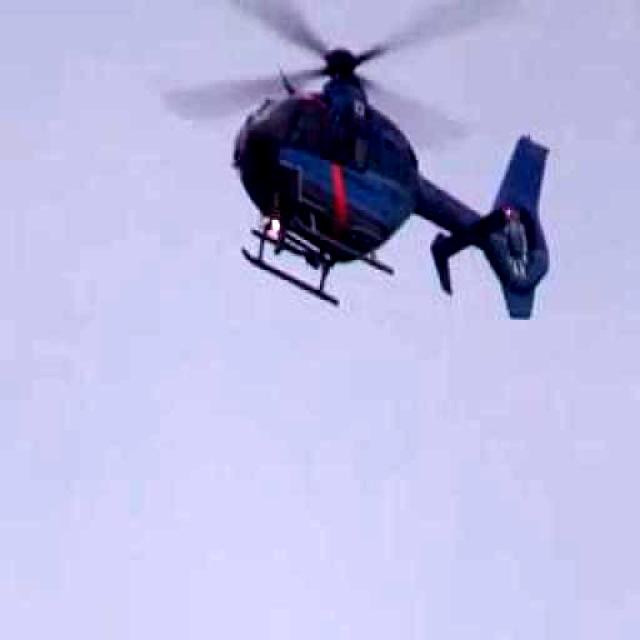drone: (132, 0, 576, 369)
